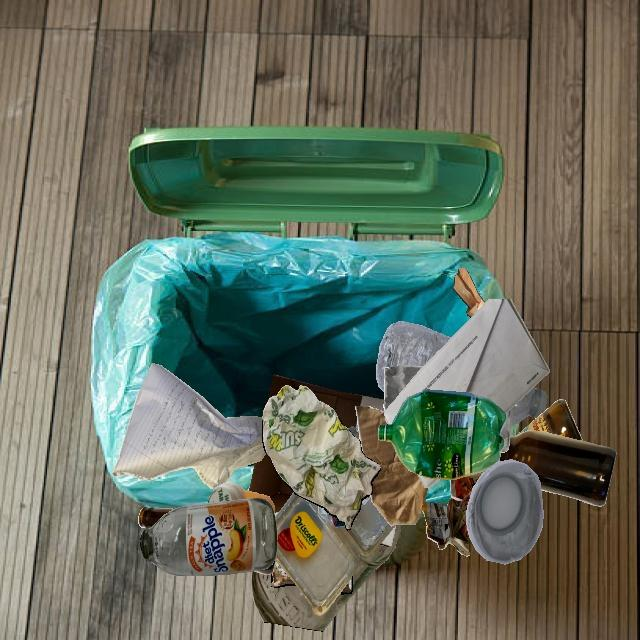cardboard: (269, 426, 380, 544), (355, 406, 427, 526), (269, 374, 384, 431), (274, 513, 345, 592), (249, 460, 294, 513), (383, 364, 423, 412), (500, 408, 512, 453)
glass: (251, 524, 401, 631), (140, 498, 277, 576), (498, 430, 616, 507), (517, 399, 583, 441), (138, 506, 174, 529)
paper: (384, 299, 549, 424), (112, 363, 266, 489), (262, 385, 381, 530), (421, 471, 486, 556), (453, 268, 486, 318)
plastic: (275, 492, 397, 616), (378, 390, 506, 480), (466, 459, 544, 564), (376, 321, 451, 392), (208, 482, 274, 513), (511, 387, 547, 426), (317, 505, 345, 527)
